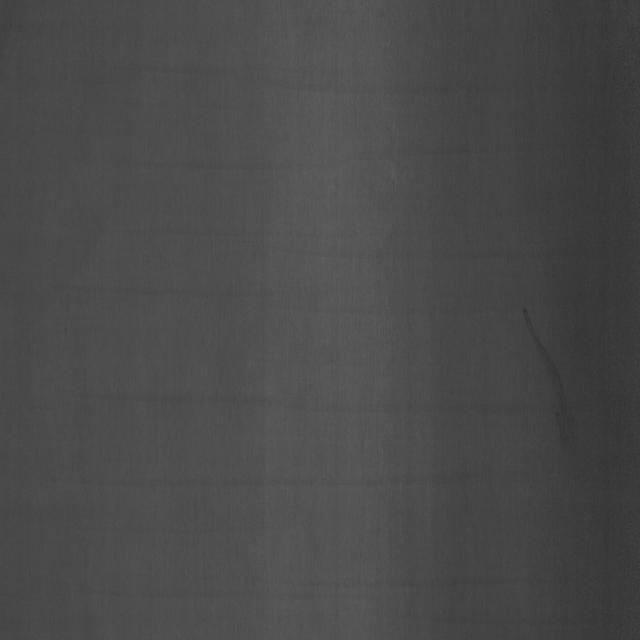water_spot: (507, 289, 593, 471)
